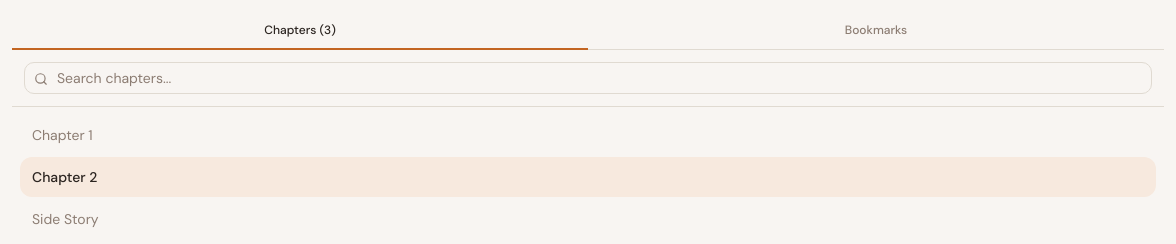
Test: ChapterList › does not crash when the active chapter is filtered out
The width and height of the screenshot is (1176, 244).
Type "Side Story" into the field labelled "Search chapters" at coordinates (588, 78), box [24,62,1152,94]
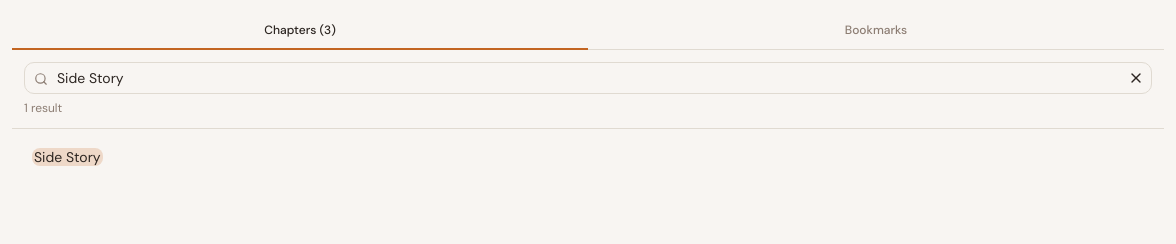
expect the text "1 result" is shown: met, box [24,100,62,116]
